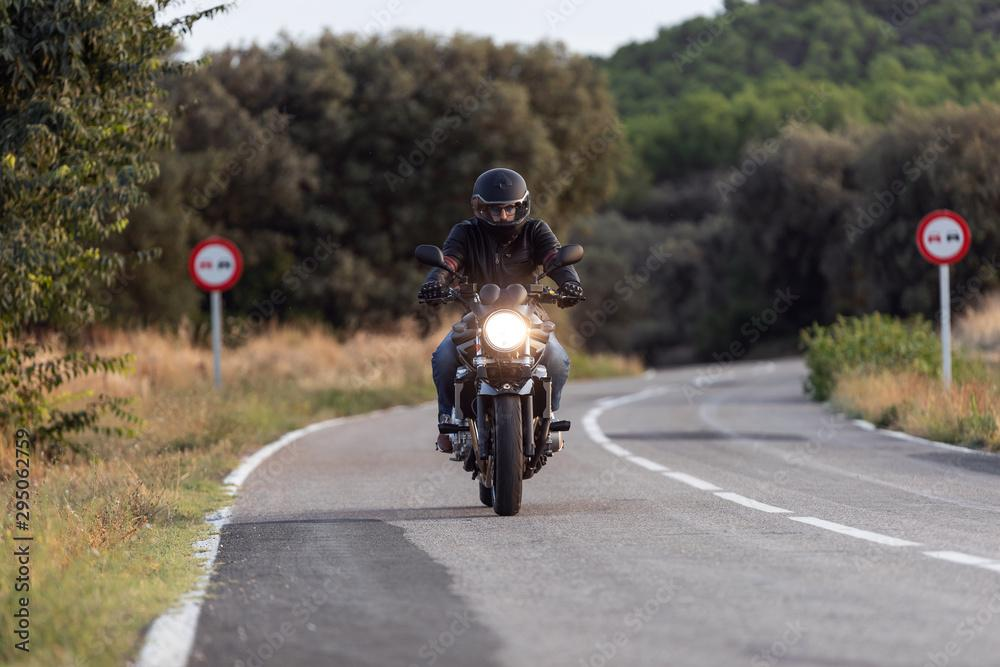helmet: (470, 167, 532, 243)
